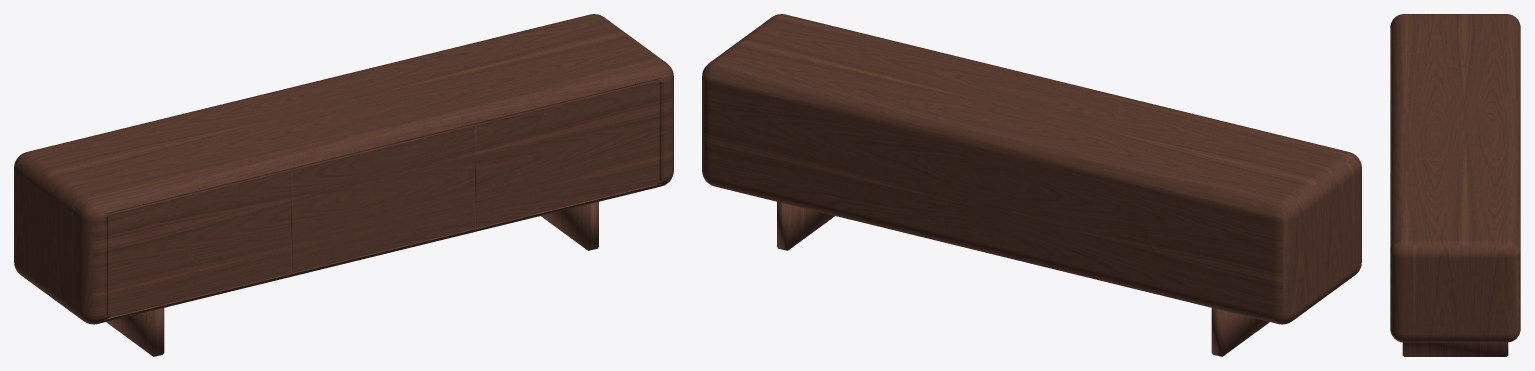
File: walnut-tv-console.glb
3 renders of one model, left to right at view 1: azimuth 30°, elevation 25°; view 2: azimuth 150°, elevation 25°; view 3: azimuth 270°, elevation 25°, orthographic. The views are drawn at different scales.
Visible parts, largest first — view 1: shell, door1, door0, door2, legL, legR; view 2: shell, legL, legR; view 3: shell, legR.
Part boxes in pixels (left/top/right/bottom): shell: left=14, top=14, right=673, bottom=324; door1: left=290, top=124, right=475, bottom=272; door0: left=107, top=169, right=291, bottom=317; door2: left=475, top=80, right=659, bottom=227; legL: left=106, top=308, right=164, bottom=356; legR: left=541, top=202, right=598, bottom=250; shell: left=702, top=14, right=1361, bottom=324; legL: left=1211, top=308, right=1269, bottom=356; legR: left=777, top=202, right=834, bottom=250; shell: left=1390, top=14, right=1520, bottom=342; legR: left=1402, top=342, right=1508, bottom=356.
Bounding box in the file's own units: 1.8 × 0.5 × 0.42.
2 materials, 2 textured.
